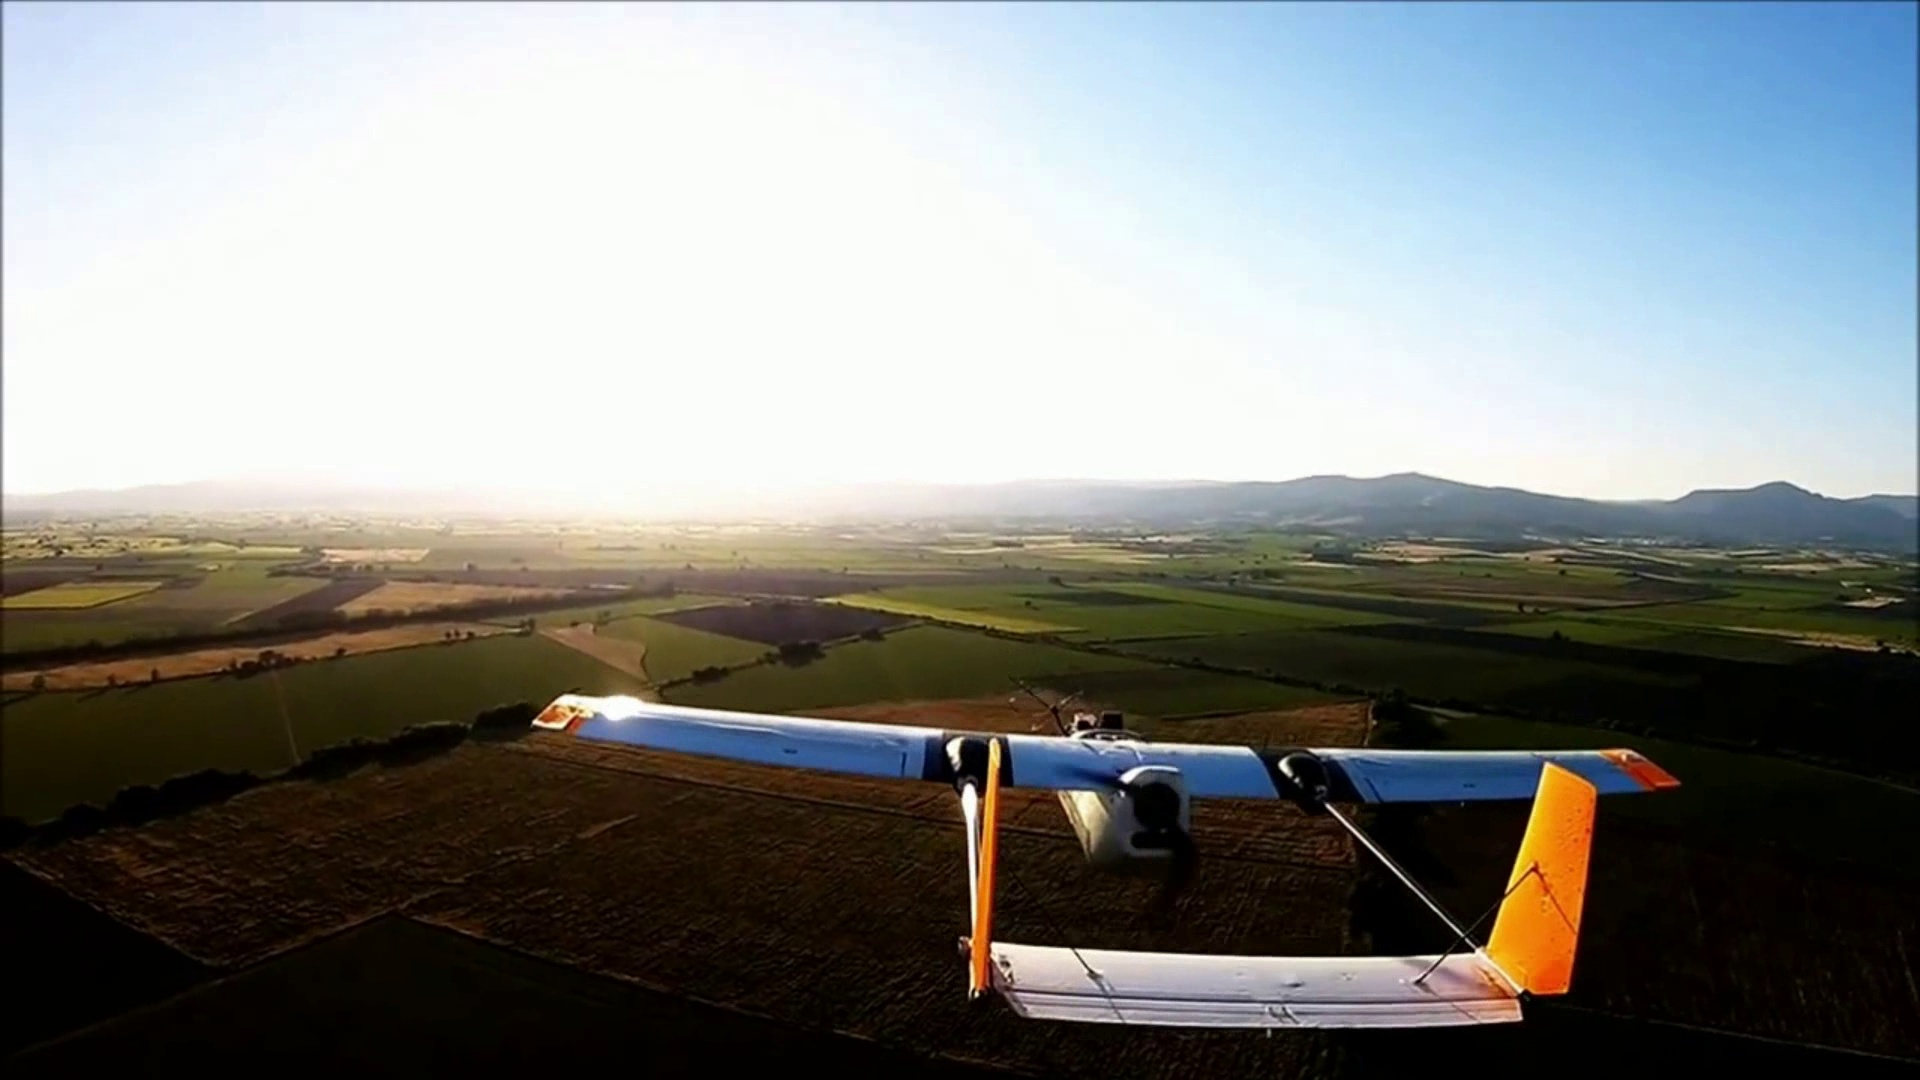airplane: (526, 710, 1681, 1031)
